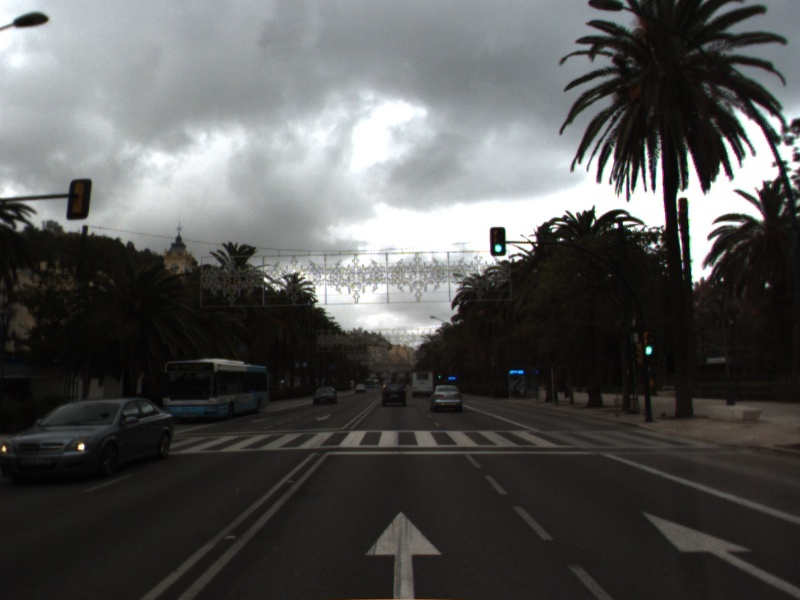STRAIGHT: (637, 507, 800, 597), (360, 508, 446, 600)
